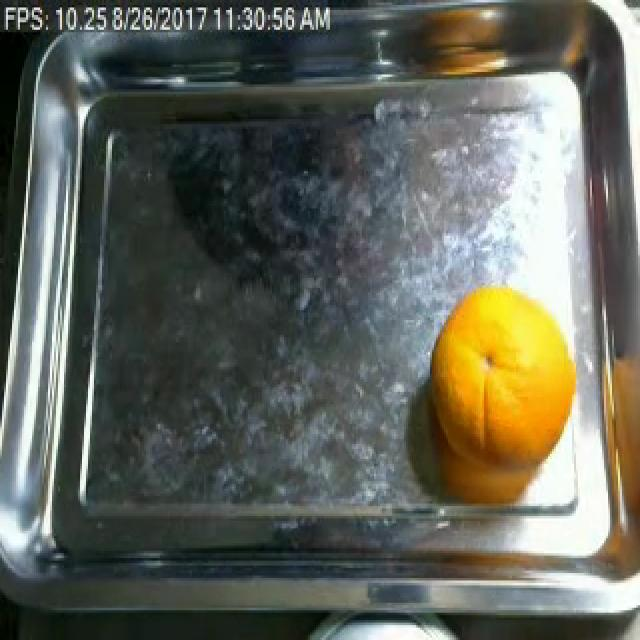Fruit: (422, 275, 586, 516)
